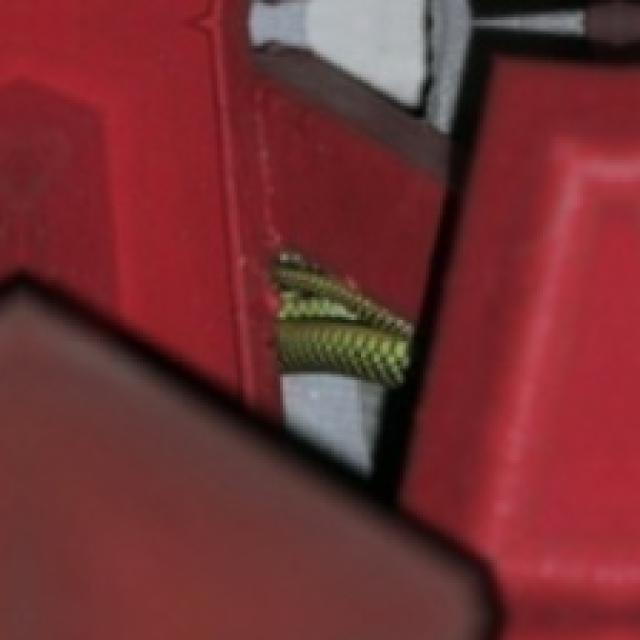paradise tree snake: (274, 251, 411, 386)
